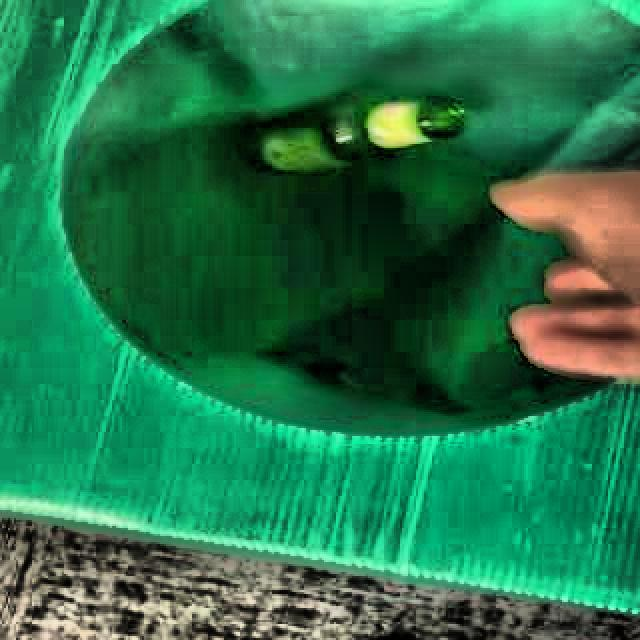glass: (245, 94, 469, 173)
